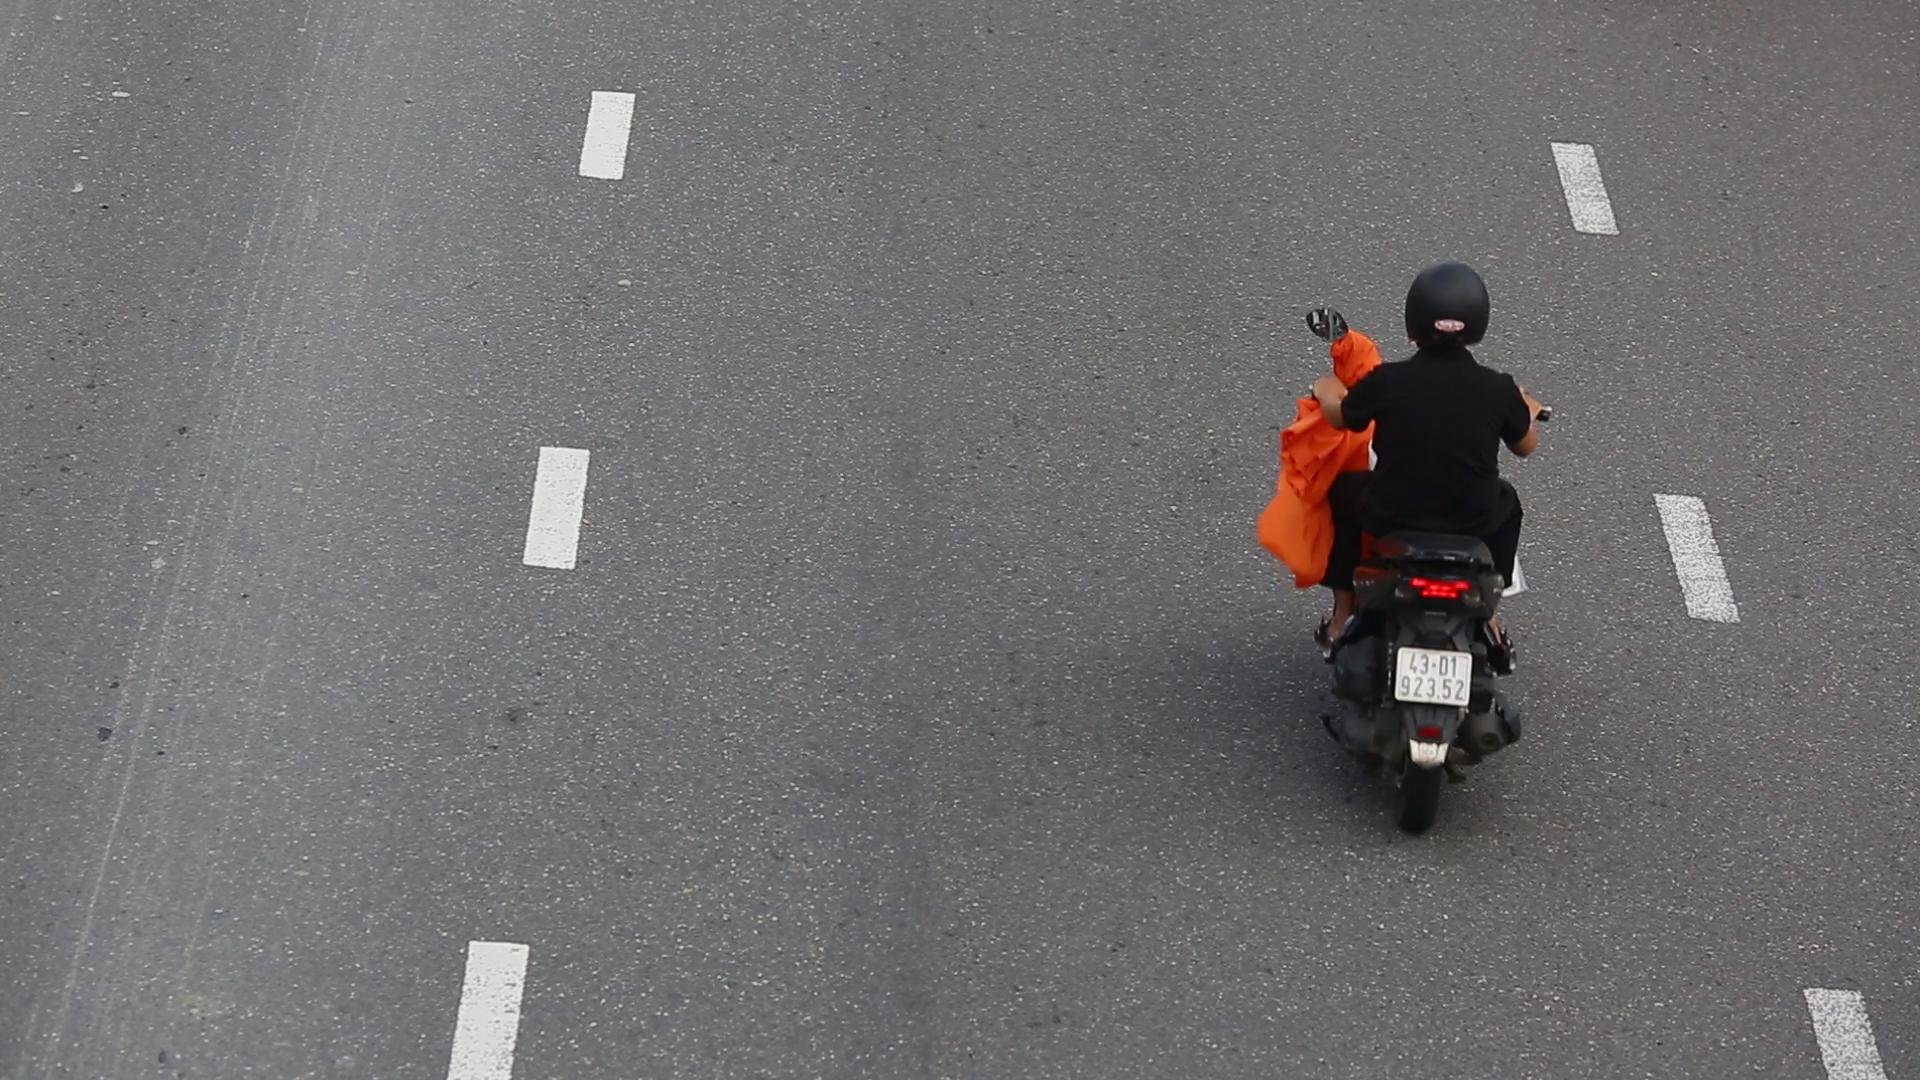motobike: (1278, 253, 1567, 837)
